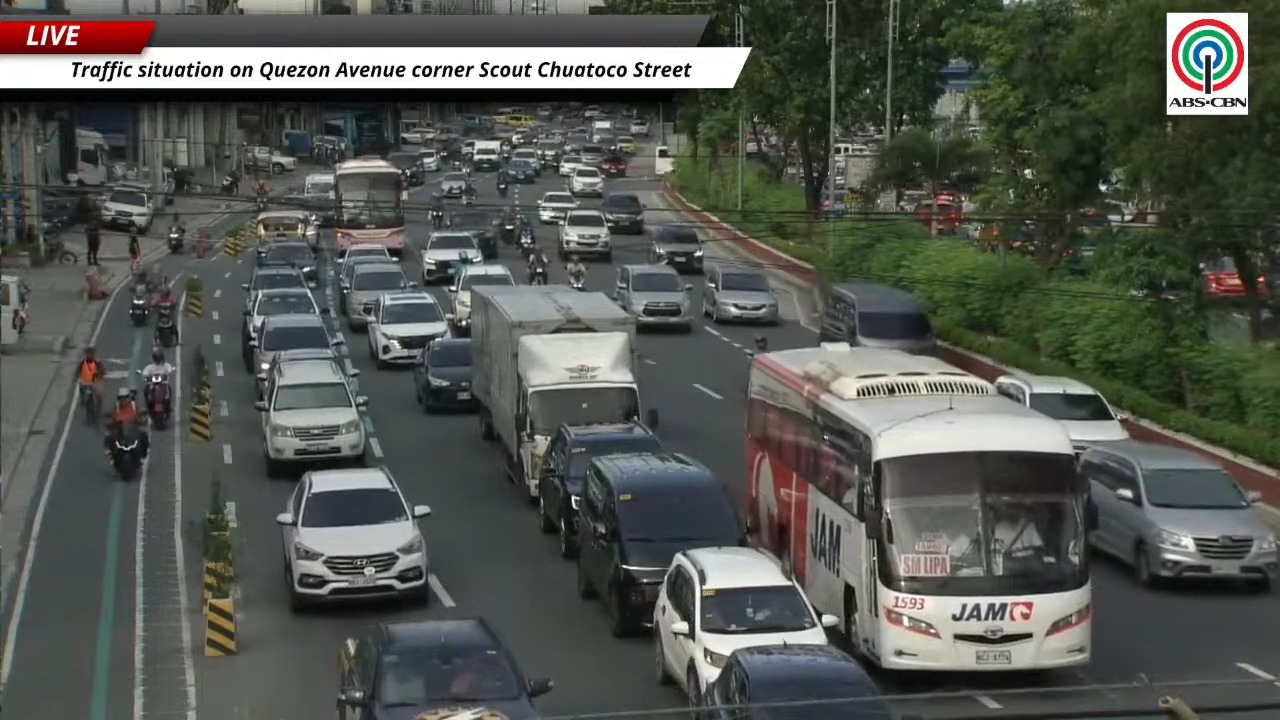bus: (745, 343, 1095, 671), (333, 157, 407, 257)
car: (577, 452, 746, 636), (1079, 440, 1279, 590), (653, 546, 838, 705), (276, 466, 430, 611), (337, 617, 552, 719), (539, 422, 662, 558), (699, 644, 911, 719), (255, 360, 367, 477), (995, 373, 1129, 452), (367, 291, 448, 367), (246, 314, 343, 374), (256, 347, 359, 399), (242, 288, 320, 356), (614, 264, 692, 331), (447, 263, 515, 333), (344, 263, 412, 330), (702, 264, 779, 323), (414, 338, 475, 411), (337, 254, 395, 313), (420, 231, 482, 283), (241, 264, 307, 308), (256, 241, 318, 286), (248, 210, 317, 250), (558, 209, 611, 261), (649, 225, 703, 271), (449, 210, 498, 259), (101, 188, 153, 233), (600, 192, 644, 234), (1202, 257, 1245, 297), (537, 192, 579, 223), (387, 151, 424, 186), (336, 243, 392, 265), (567, 166, 604, 196), (472, 141, 504, 171), (506, 158, 539, 183), (511, 147, 540, 175), (535, 139, 563, 167), (439, 172, 469, 198), (597, 154, 627, 178), (579, 142, 607, 166), (400, 127, 437, 144), (558, 154, 582, 177), (416, 149, 439, 172), (615, 136, 638, 155), (628, 119, 649, 136), (583, 105, 602, 119), (535, 106, 554, 118)
motorcycle: (111, 425, 143, 480), (143, 374, 170, 428), (155, 305, 176, 348), (129, 294, 148, 326), (518, 226, 536, 252), (167, 227, 183, 253), (220, 174, 238, 194), (530, 265, 547, 285), (502, 220, 515, 244), (430, 209, 444, 228), (569, 275, 584, 291), (255, 195, 267, 211), (496, 183, 507, 198), (463, 195, 475, 207), (451, 160, 462, 170)
truck: (472, 286, 657, 500), (241, 145, 296, 174)
